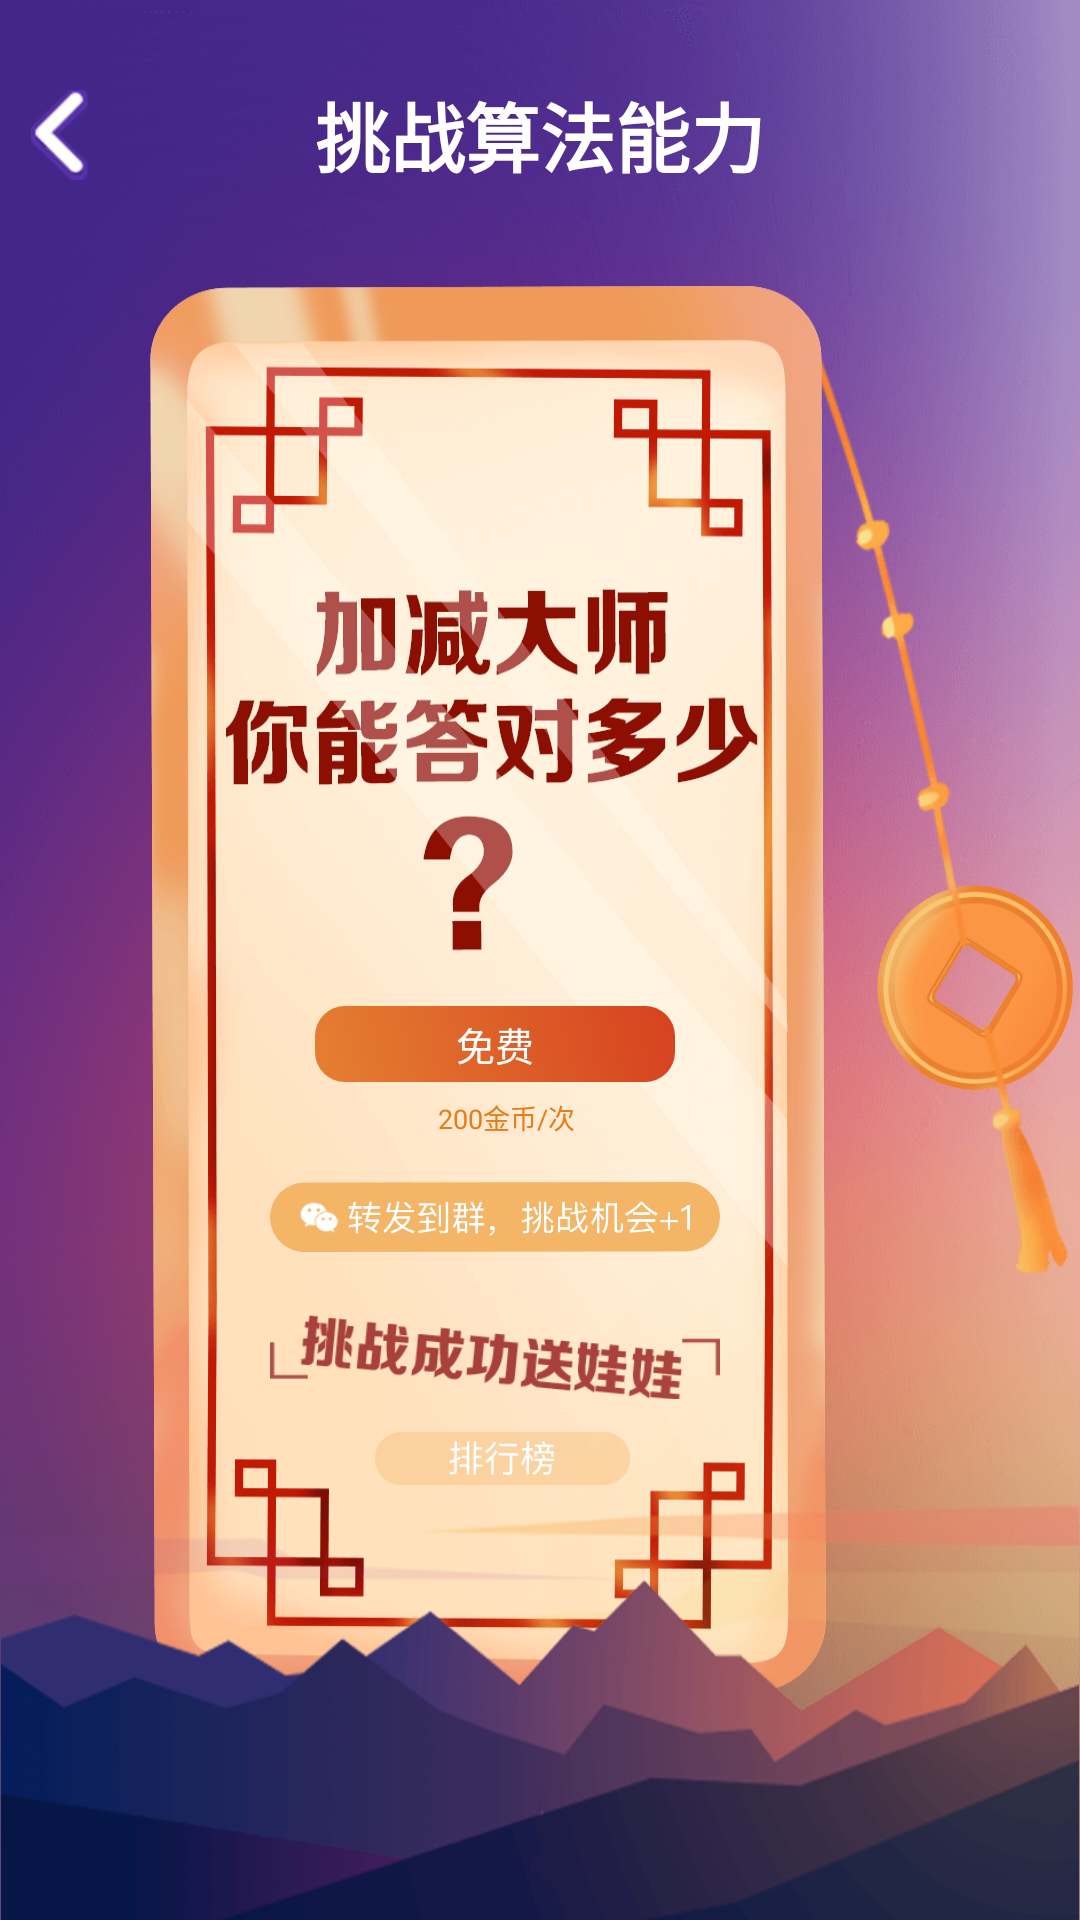

Named icons in this screenshot (1080px x 1920px) and their centers, [x,y]:
add back: [59,135]
